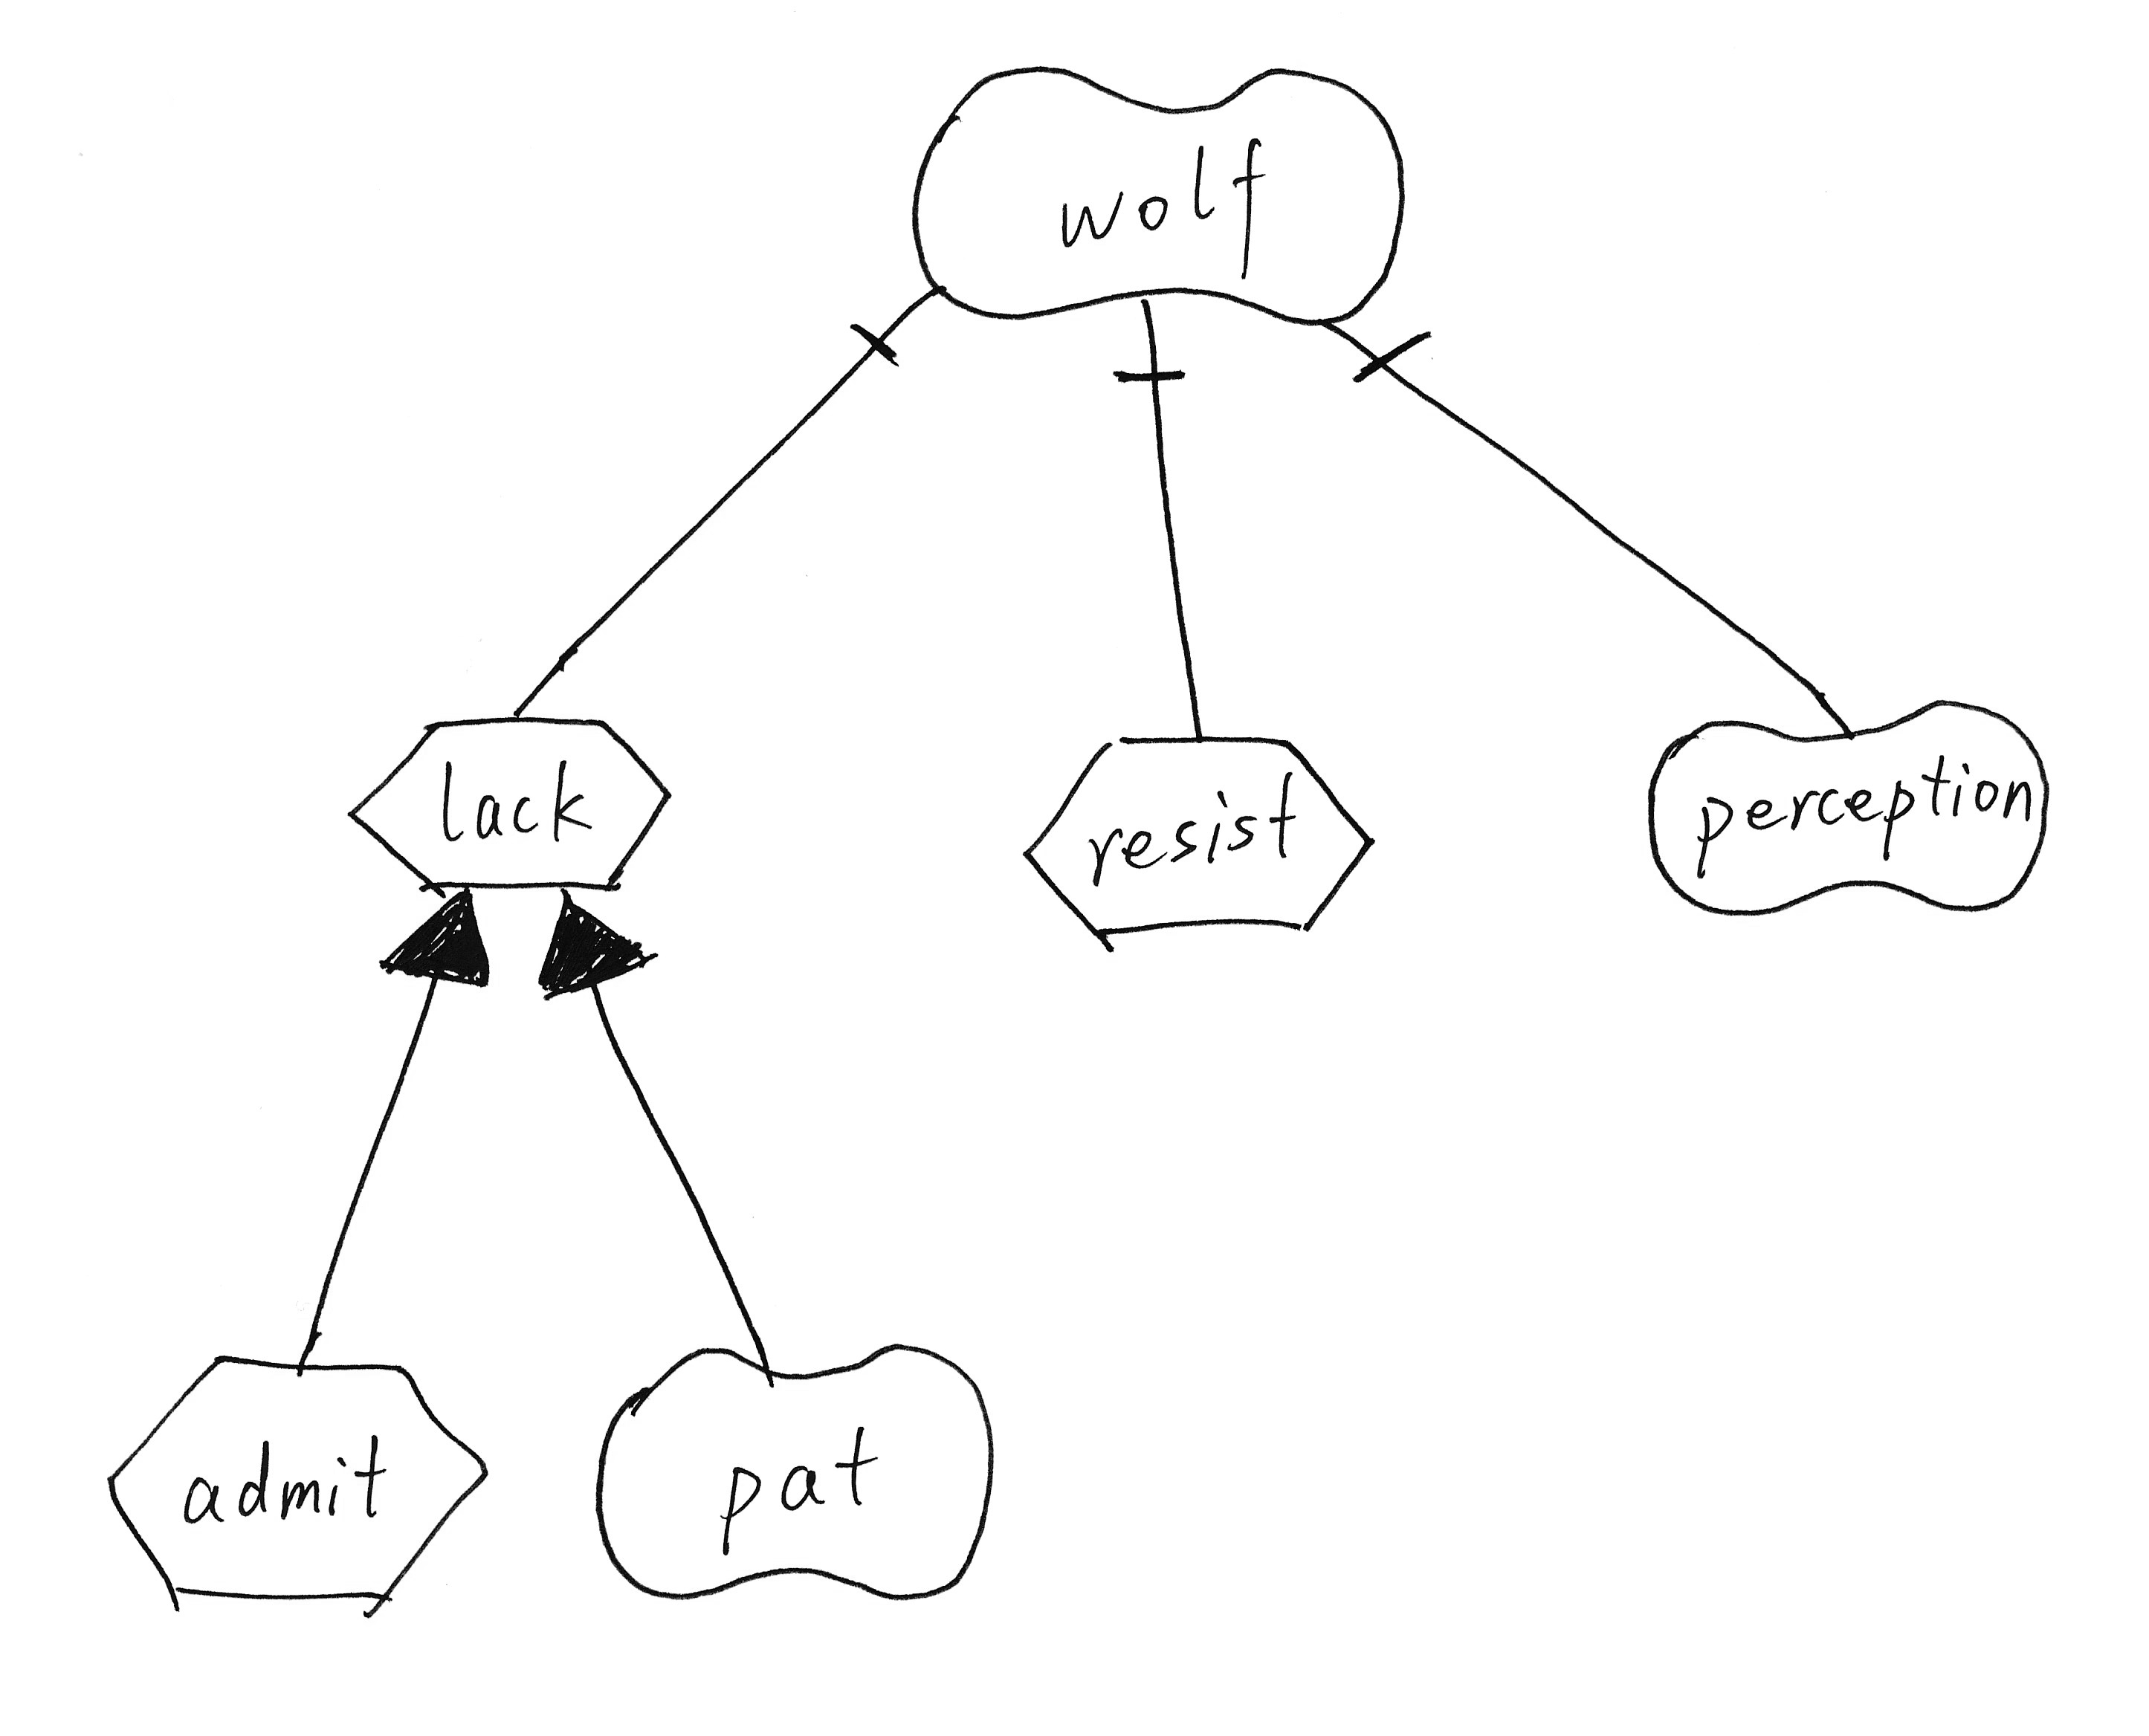and: (834, 269, 962, 388), (1311, 303, 1449, 397), (1098, 285, 1201, 406)
or: (523, 877, 673, 1010), (372, 879, 503, 997)
quality: (886, 37, 1431, 351), (565, 1320, 1022, 1612), (1626, 682, 2075, 937)
task: (89, 1334, 512, 1628), (1010, 717, 1387, 957), (333, 698, 684, 914)
